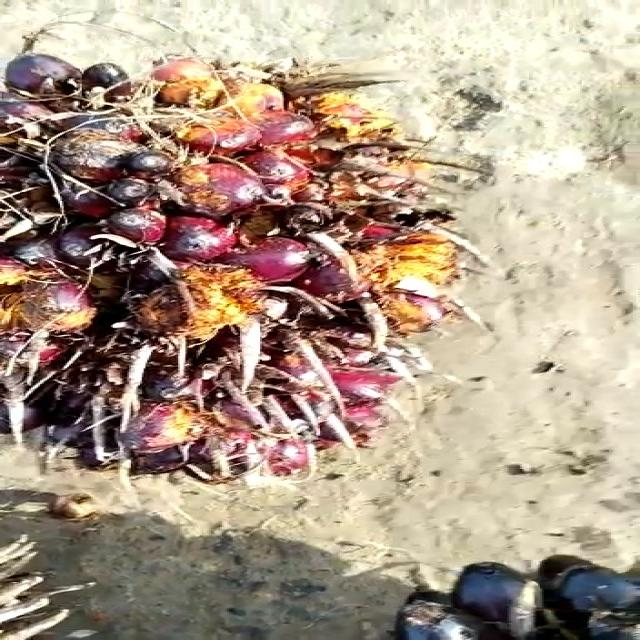palm oil: (0, 54, 461, 487)
